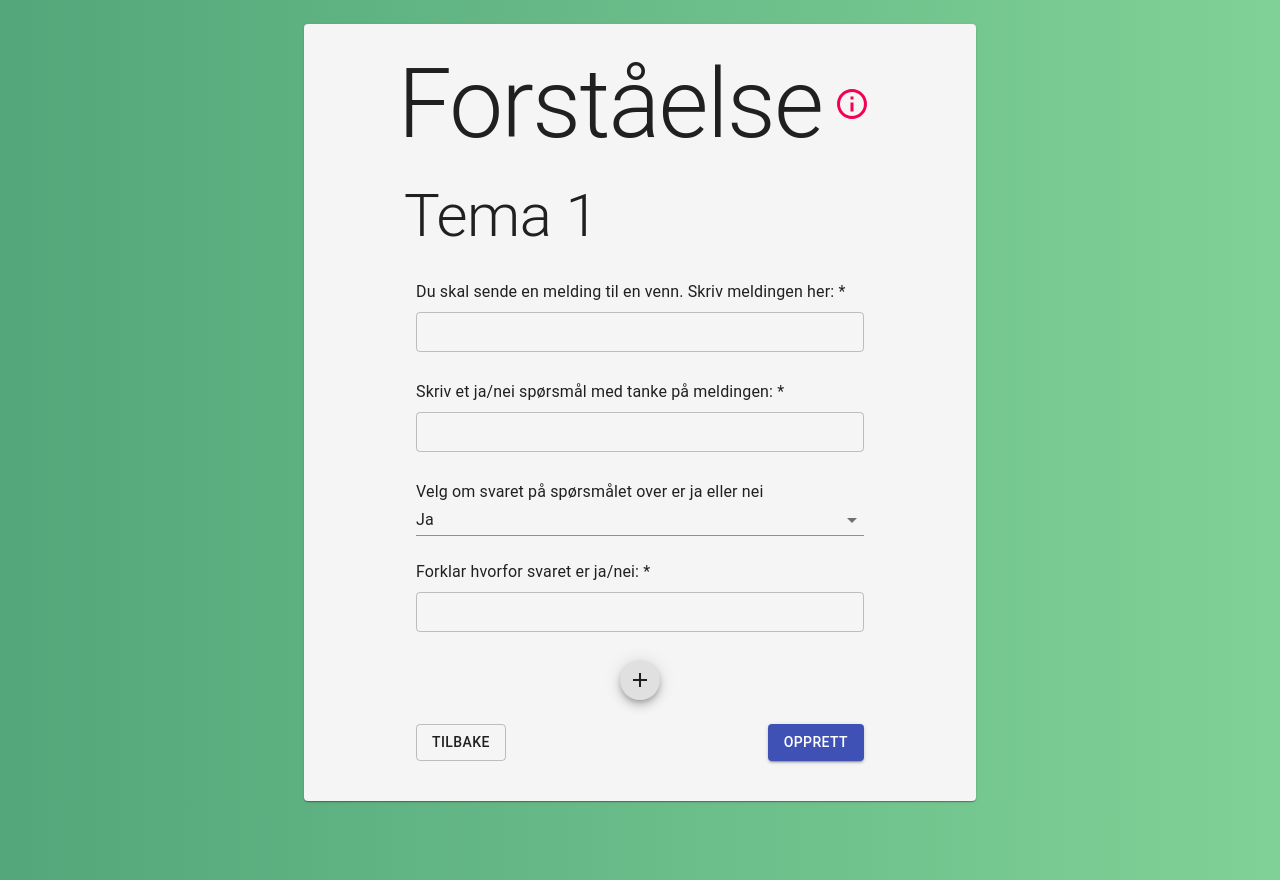
Test: CreateForstaelse test › add task button
The image size is (1280, 880).
Click the button with test id "addButton": (640, 680) [620, 660, 660, 700]
(page scrolled)
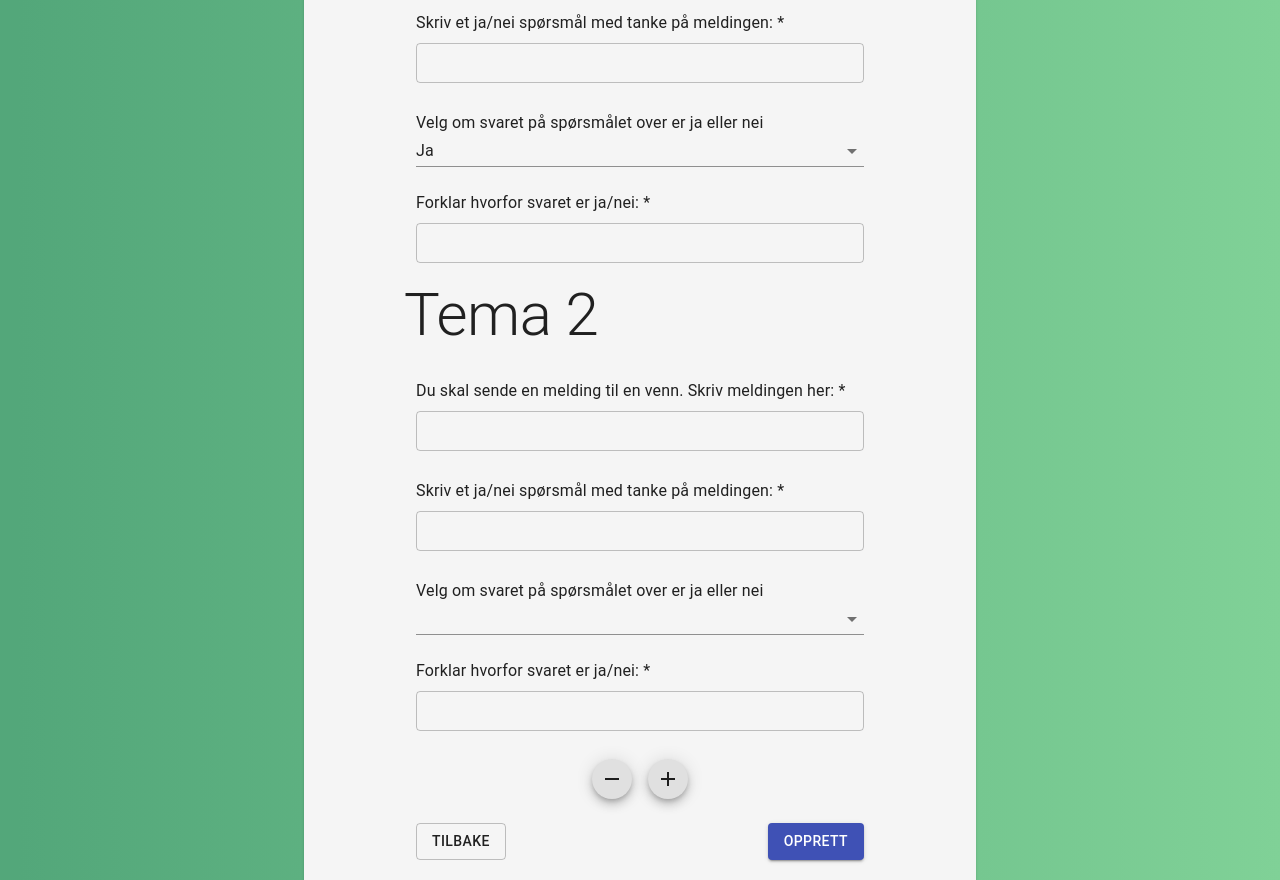
Click the button with test id "addButton": (668, 779) [648, 759, 688, 799]
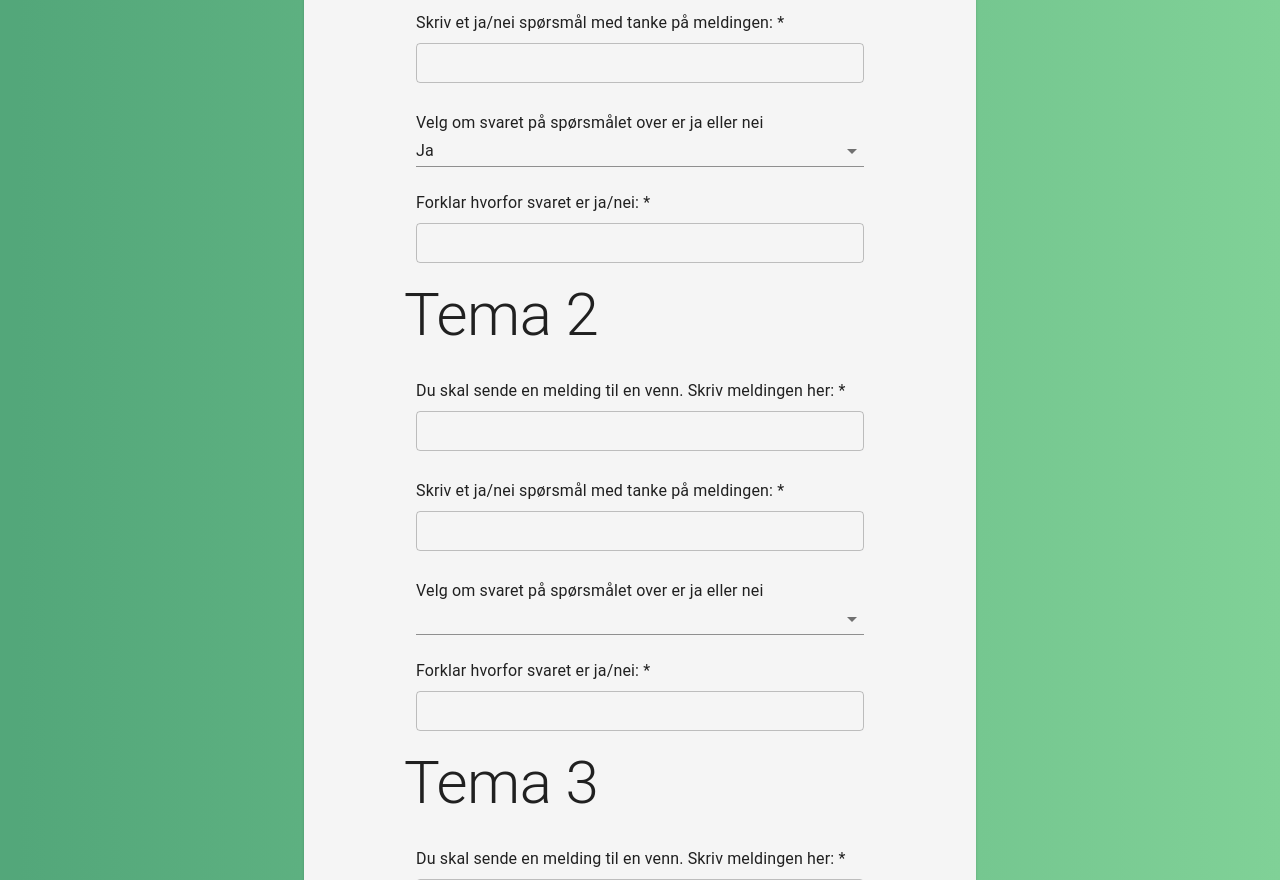
Now the text "Tema 3" is shown, box [404, 747, 598, 819]
